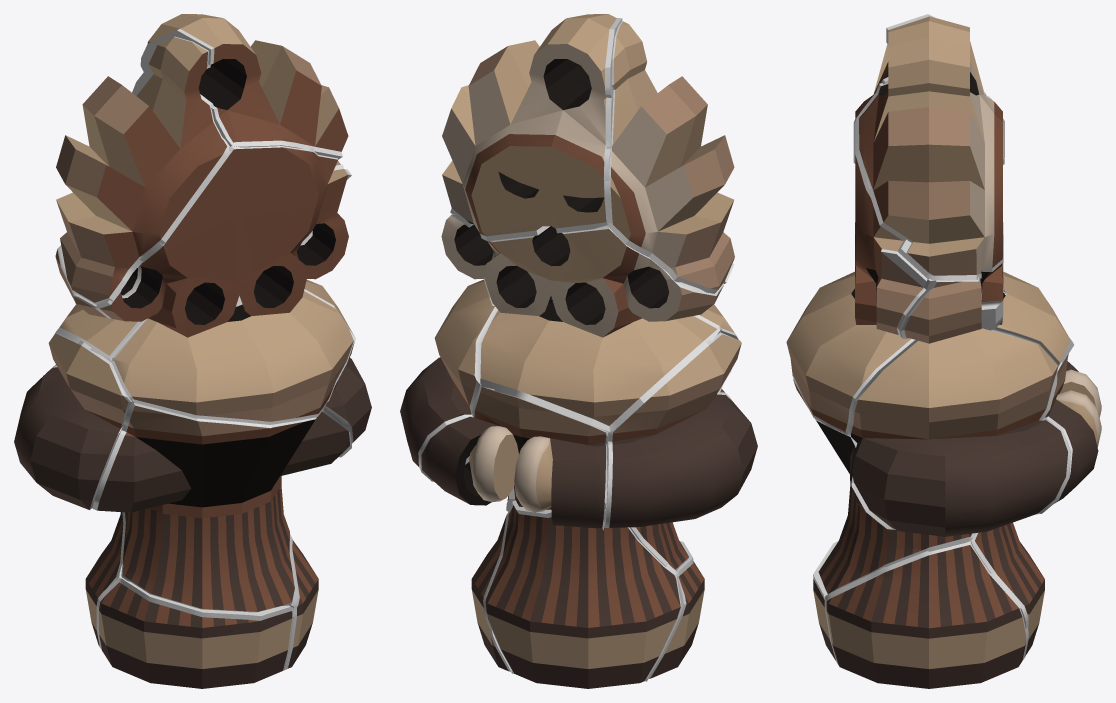
The model's file is v19_dogu.fbx.
3 renders of one model, left to right at view 1: azimuth 30°, elevation 25°; view 2: azimuth 150°, elevation 25°; view 3: azimuth 270°, elevation 25°, orthographic.
Parts seen in each view (by area): view 1: shard8, shard7, shard1, shard10, shard2, shard6, shard9, shard3, gold2, gold, shard5, gold10 (+7 smaller); view 2: shard9, shard2, shard4, shard1, shard6, shard11, shard3, gold9, shard10, gold2, shard5, gold1 (+5 smaller); view 3: shard3, shard2, shard5, shard8, shard7, shard11, shard9, shard4, gold, gold2, gold5, gold3 (+4 smaller).
Boxes of the visible parts, x1=… form: shard8: x1=99, y1=147, x2=353, y2=421; shard7: x1=97, y1=405, x2=349, y2=611; shard1: x1=56, y1=37, x2=226, y2=302; shard10: x1=99, y1=582, x2=292, y2=688; shard2: x1=147, y1=14, x2=348, y2=165; shard6: x1=14, y1=333, x2=128, y2=509; shard9: x1=55, y1=249, x2=137, y2=355; shard3: x1=304, y1=280, x2=371, y2=441; gold2: x1=132, y1=29, x2=342, y2=159; gold: x1=96, y1=146, x2=353, y2=424; shard5: x1=288, y1=540, x2=318, y2=668; gold10: x1=96, y1=577, x2=293, y2=670; shard9: x1=480, y1=226, x2=721, y2=425; shard2: x1=442, y1=14, x2=616, y2=236; shard4: x1=485, y1=505, x2=680, y2=688; shard1: x1=610, y1=21, x2=734, y2=289; shard6: x1=609, y1=334, x2=757, y2=527; shard11: x1=421, y1=387, x2=606, y2=528; shard3: x1=400, y1=215, x2=494, y2=466; gold9: x1=480, y1=225, x2=723, y2=433; shard10: x1=650, y1=561, x2=704, y2=678; gold2: x1=450, y1=18, x2=622, y2=241; shard5: x1=471, y1=515, x2=508, y2=671; gold1: x1=605, y1=21, x2=717, y2=293; shard3: x1=851, y1=280, x2=1068, y2=536; shard2: x1=859, y1=16, x2=1002, y2=275; shard5: x1=826, y1=545, x2=1025, y2=688; shard8: x1=786, y1=155, x2=923, y2=432; shard7: x1=793, y1=381, x2=971, y2=593; shard11: x1=1045, y1=354, x2=1101, y2=503; shard9: x1=980, y1=222, x2=1070, y2=361; shard4: x1=975, y1=522, x2=1044, y2=655; gold: x1=792, y1=148, x2=935, y2=434; gold2: x1=855, y1=14, x2=1002, y2=280; gold5: x1=825, y1=540, x2=1028, y2=663; gold3: x1=847, y1=277, x2=1070, y2=514.
Bounding box in the file's own units: 9.94 × 18.25 × 8.32.
